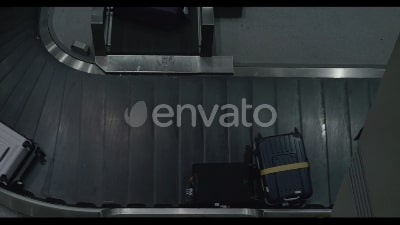baggage: (252, 126, 315, 210), (181, 160, 259, 210), (1, 116, 47, 193)
